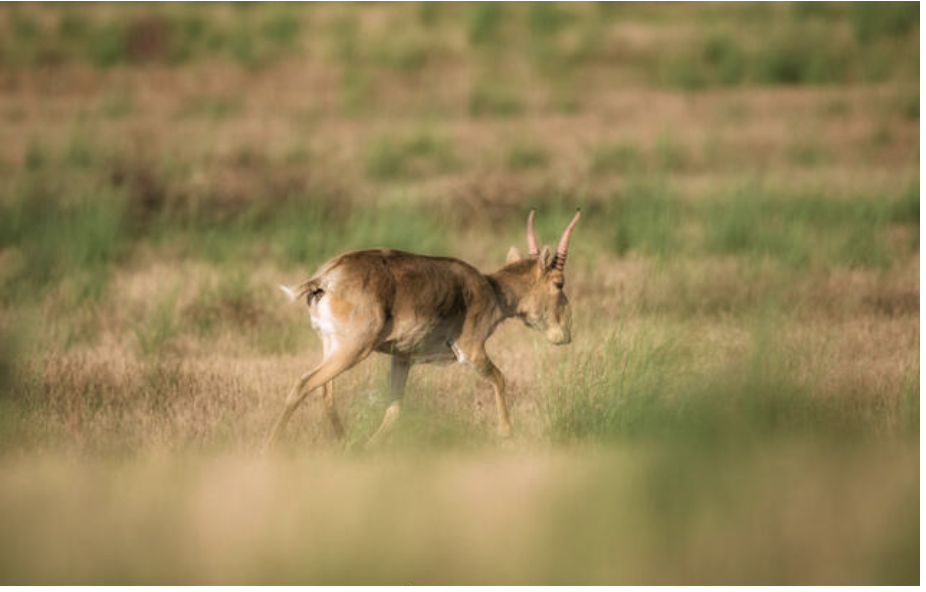saiga: (248, 181, 583, 468)
